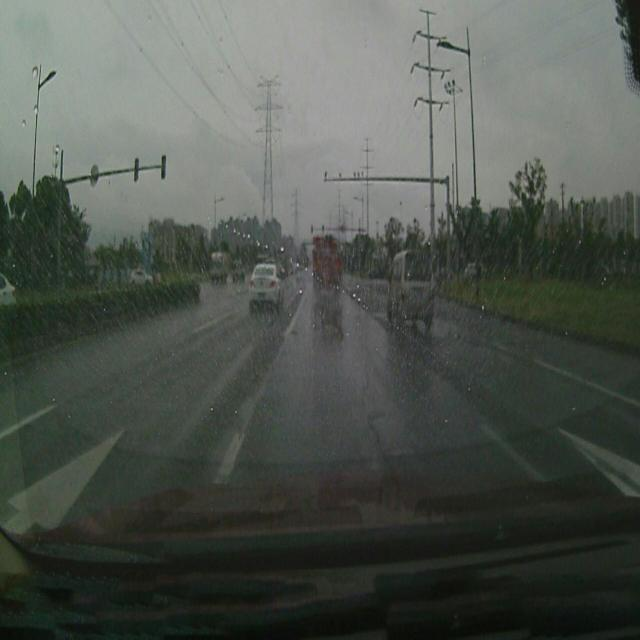car: (388, 246, 434, 330), (252, 261, 284, 310), (0, 261, 17, 307), (208, 249, 227, 286), (130, 264, 152, 288), (229, 260, 247, 280)
